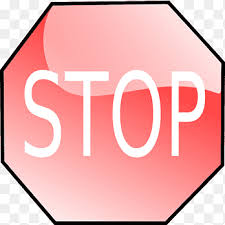SS: (1, 4, 223, 223)
